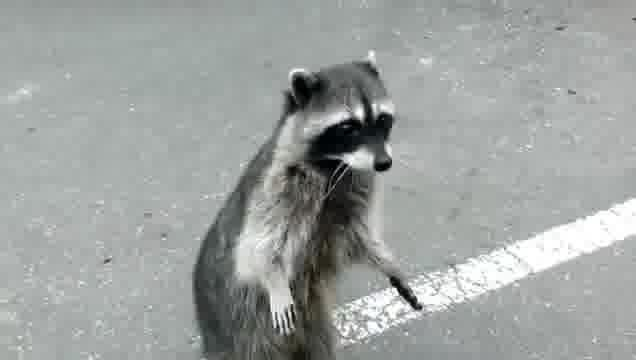raccoon: (189, 46, 426, 360)
